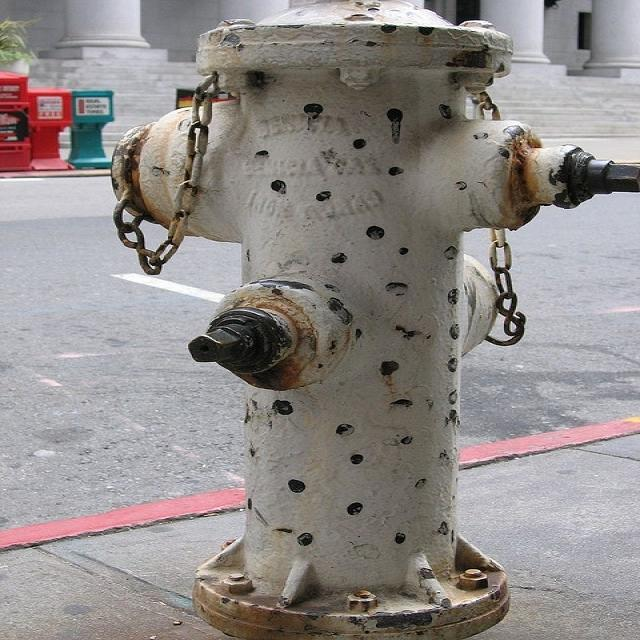fire_hydrant: (74, 34, 581, 640)
